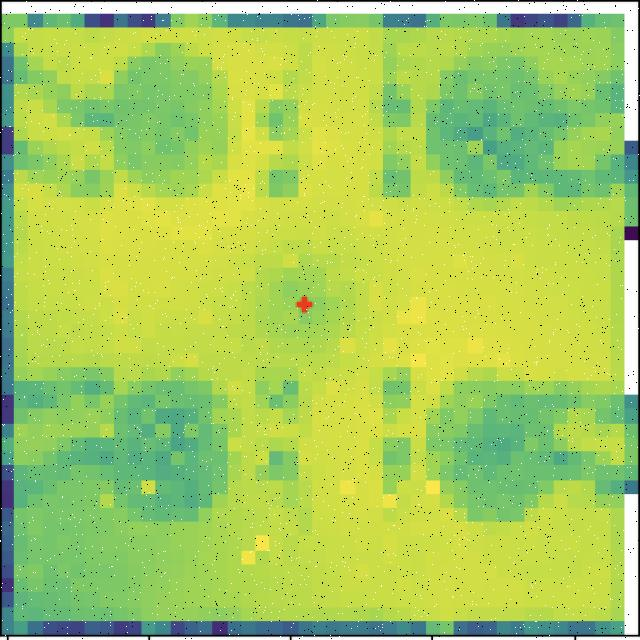Concrete: (78, 368, 234, 523)
Glass: (426, 366, 587, 524)
Metal: (109, 42, 234, 202)
Wood: (425, 43, 593, 203)
